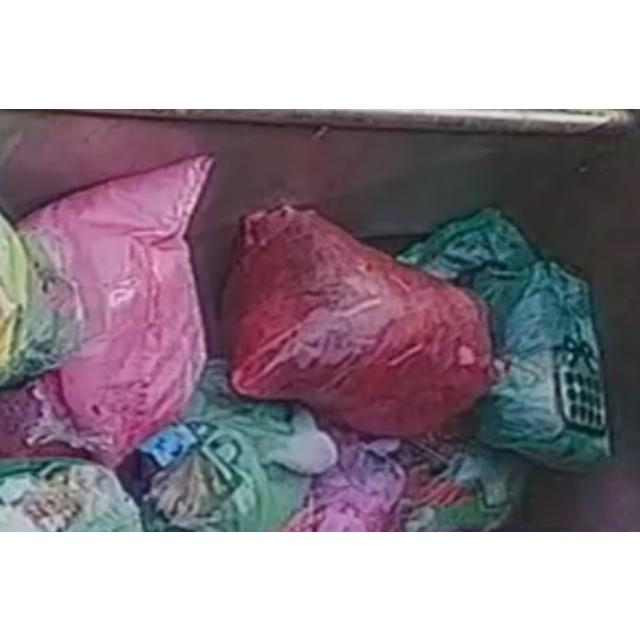general_trashbag: (396, 207, 610, 469), (139, 359, 336, 530)
other_trashbag: (0, 154, 212, 466), (222, 204, 491, 435)
